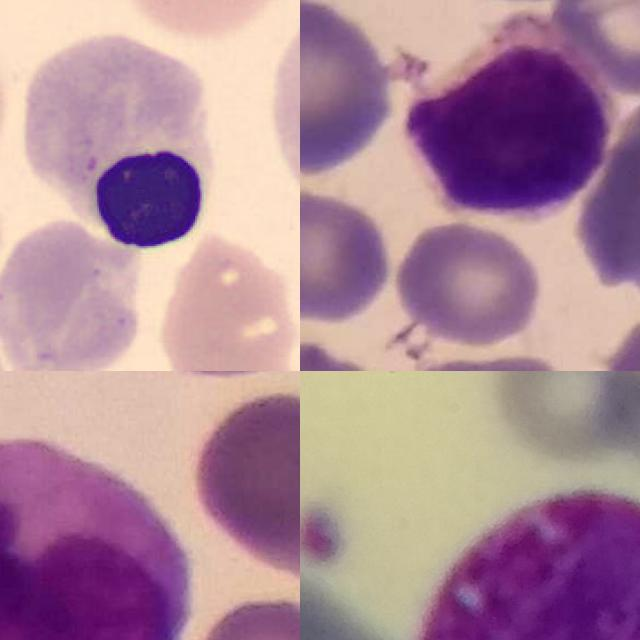Basophil: (414, 487, 640, 640)
Lymphocyte: (16, 25, 230, 253), (402, 13, 618, 220)
Monocyte: (0, 436, 191, 640)
RBC: (0, 214, 149, 371), (141, 228, 300, 371), (260, 0, 300, 262), (113, 0, 291, 41)
